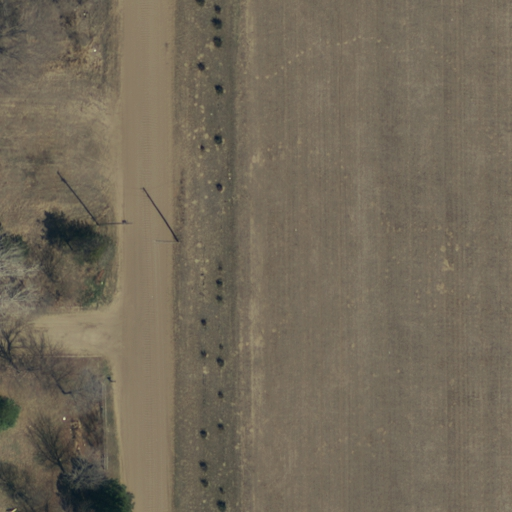DT: (93, 213, 132, 234), (149, 232, 188, 253)
